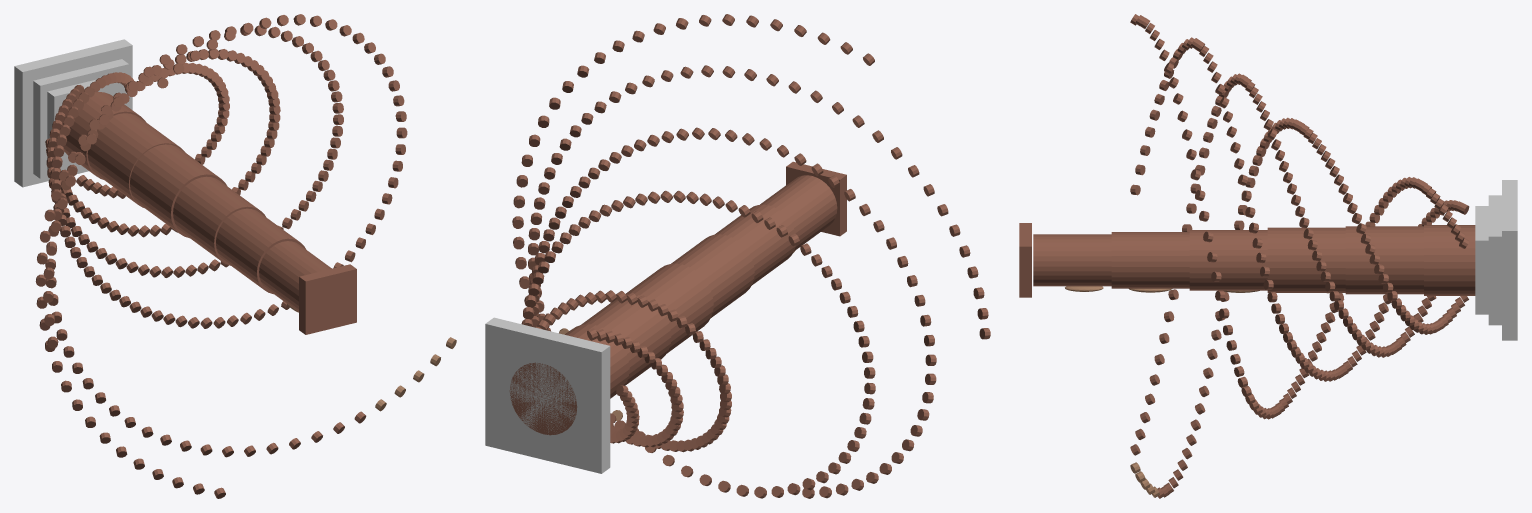
Rendered from totem_ar.glb.
The picture shows the model from 3 angles, left to right: view 1: azimuth 30°, elevation 25°; view 2: azimuth 150°, elevation 25°; view 3: azimuth 270°, elevation 25°; orthographic projection. The views are drawn at different scales.
Visible parts, largest first — view 1: world; view 2: world; view 3: world.
Boxes of the visible parts, x1,y1,x2,y2 form: world: [14, 14, 456, 498]; world: [485, 14, 990, 498]; world: [1019, 14, 1517, 498].
Bounding box in the file's own units: 5.76 × 6.14 × 6.38.
